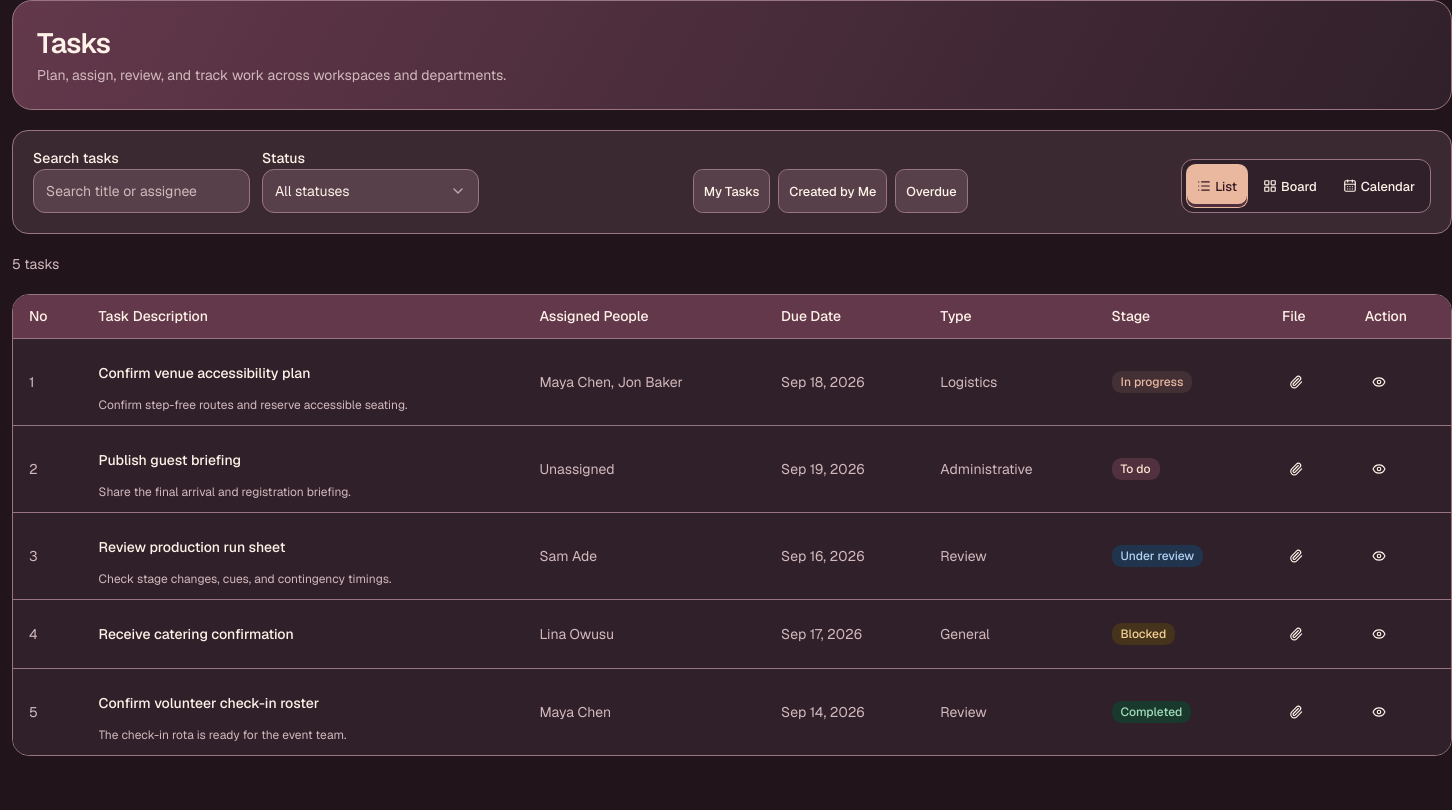
Scenario: TaskWorkspace › switches between the accessible list, board, and calendar projections
Expected: the table is shown, [13, 295, 1451, 755]
Click the button "Board": (1290, 186) [1252, 164, 1328, 208]
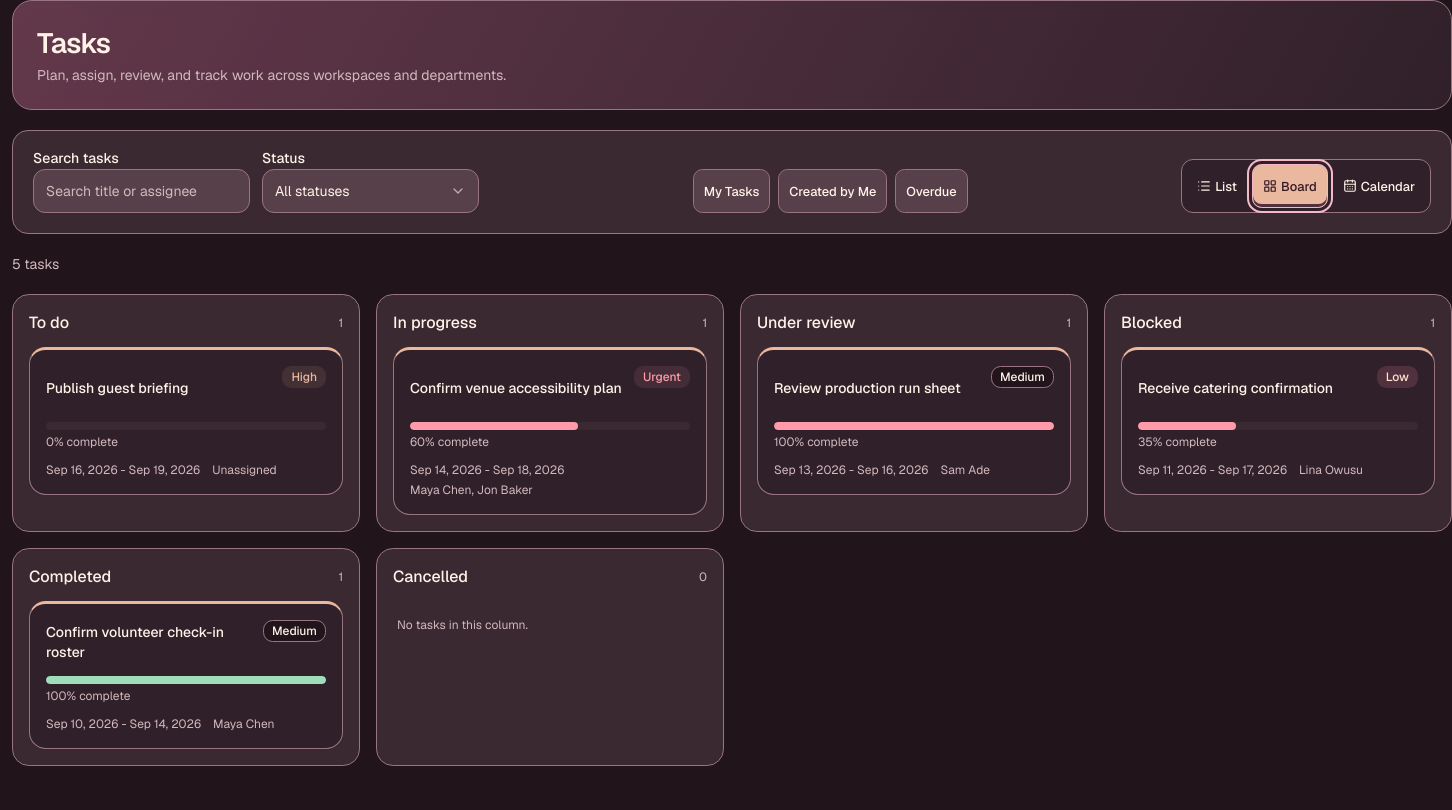
Expected: the element named "To do tasks" is shown, [12, 294, 360, 532]
Expected: the element named "Under review tasks" is shown, [740, 294, 1088, 532]
Expected: the element named "Blocked tasks" shows "Receive catering confirmation", [1138, 366, 1333, 410]
Click the button "Calendar": (1379, 186) [1332, 164, 1426, 208]
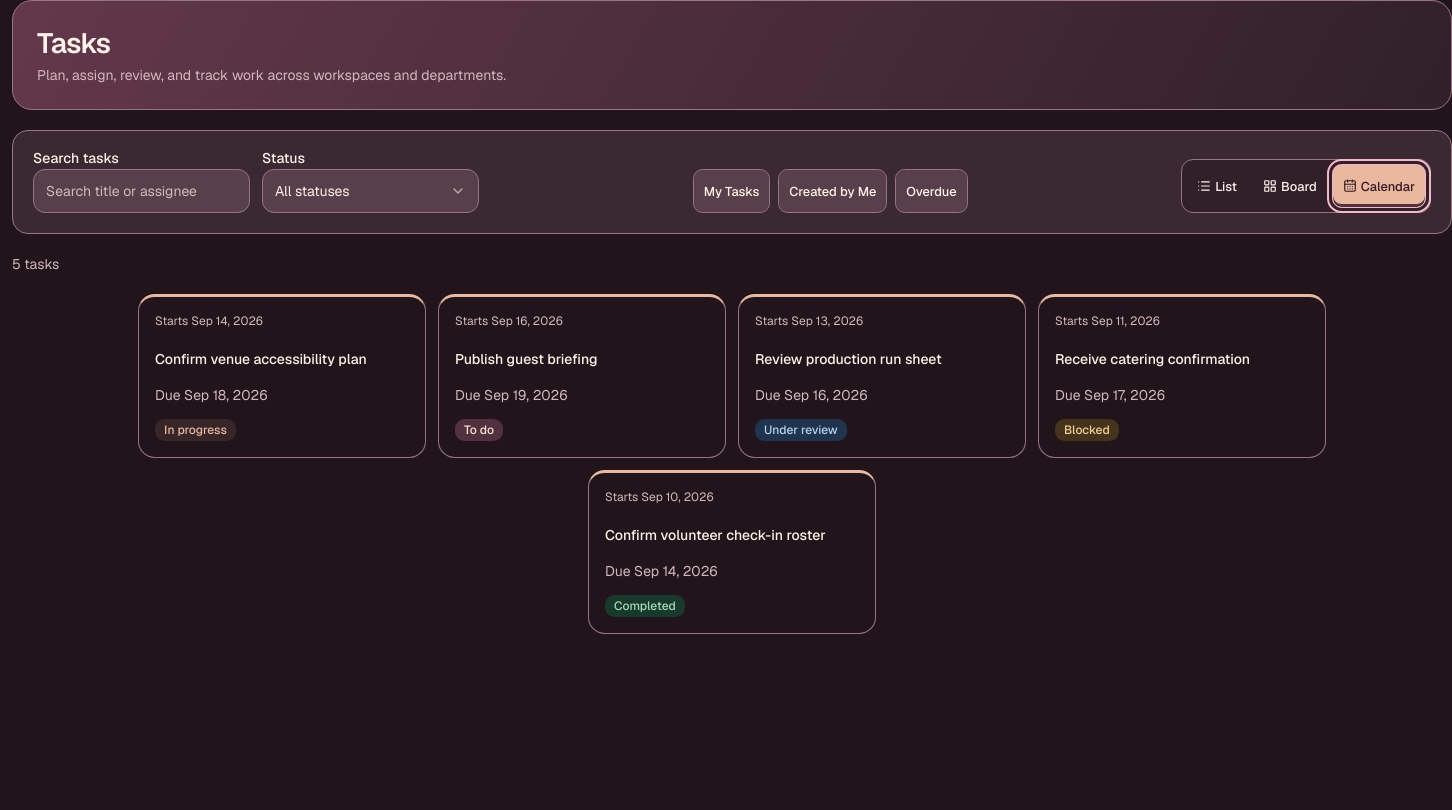
Expected: the element named "Task calendar" is shown, [138, 294, 1326, 634]
Expected: the button "Confirm venue accessibility plan" is shown, [155, 337, 367, 381]
